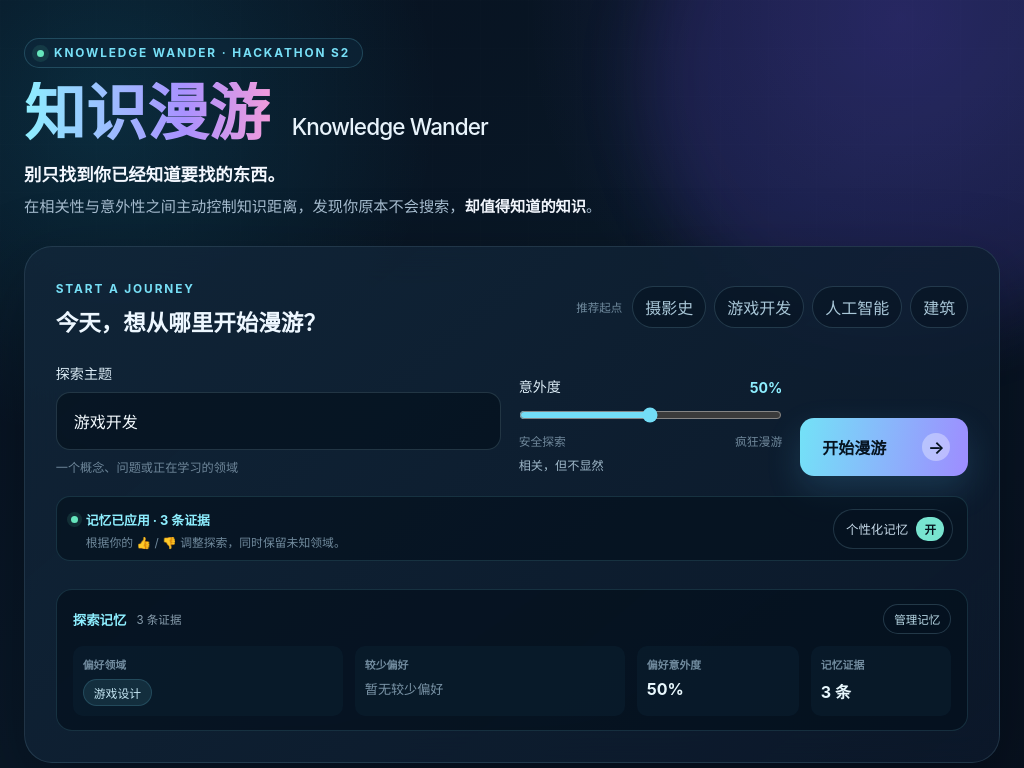
ExploreExperience feedback synchronization › loads three records, deletes one with the API arguments, and refreshes memory
The image size is (1024, 768).
Check: the text "记忆已应用 · 3 条证据" is shown, box [71,510,210,529]
Step 1. Click the button "管理记忆" → x=917, y=619, box [883,604,951,634]
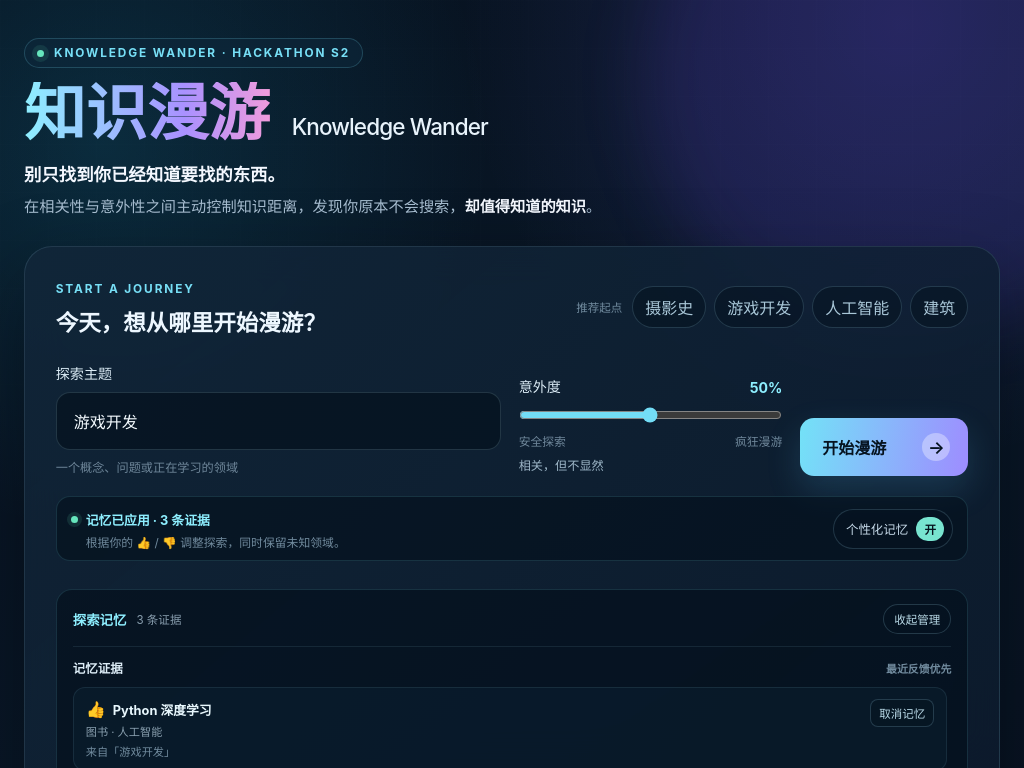
Check: the number of buttons named "取消对" is 3
Step 2. Click the button with aria-label "取消对 Python 深度学习 的记忆" → x=902, y=713, box [870,699,934,727]
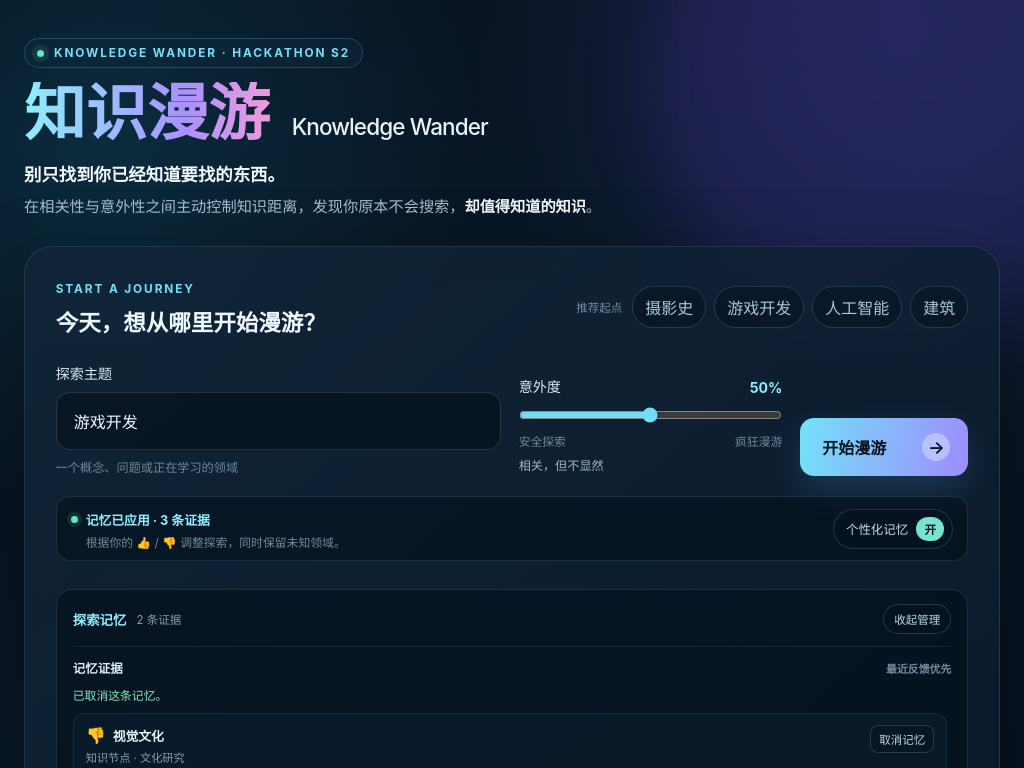
Check: the text "Python 深度学习" is gone
Check: the number of buttons named "取消对" is 2
